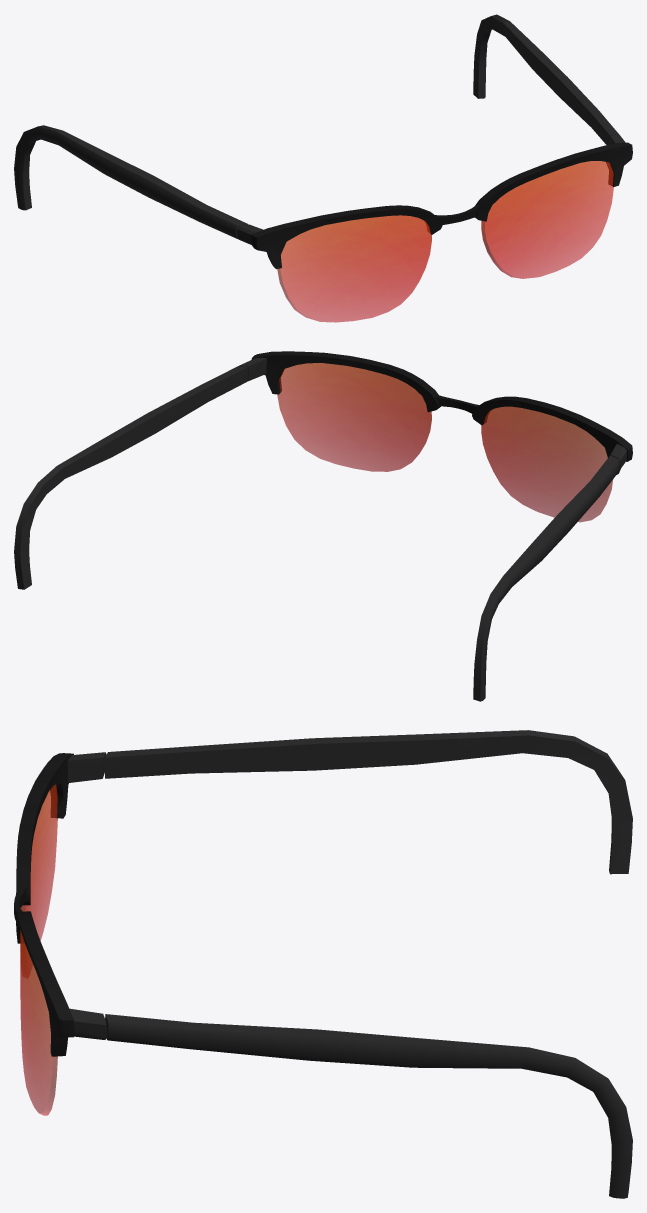
The picture shows the model from 3 angles, top to bottom: view 1: azimuth 30°, elevation 25°; view 2: azimuth 150°, elevation 25°; view 3: azimuth 270°, elevation 25°; orthographic projection. The views are drawn at different scales.
Parts seen in each view (by area): view 1: Wolf3D_Glasses; view 2: Wolf3D_Glasses; view 3: Wolf3D_Glasses.
Part boxes in pixels (box(x1,y1,x2,y2)): Wolf3D_Glasses: box(14, 14, 632, 322); Wolf3D_Glasses: box(14, 351, 632, 701); Wolf3D_Glasses: box(14, 730, 632, 1198).
Size of the model in its own units: 0.1666 by 0.0381 by 0.1311.
1 material, 1 textured.
